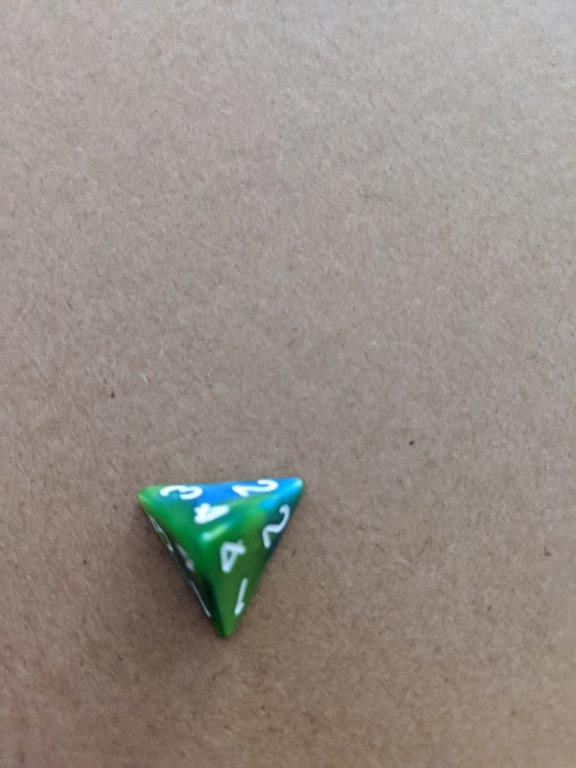d4-4: (136, 476, 310, 643)
